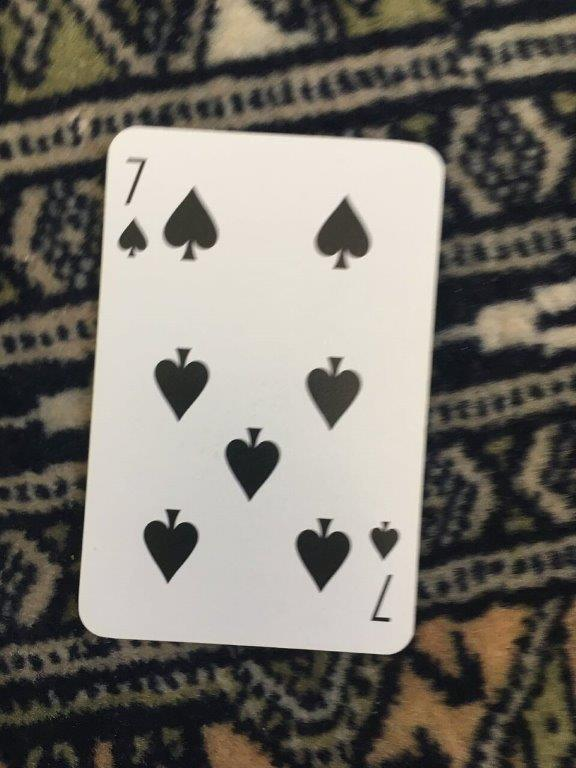7S: (73, 120, 450, 659)
